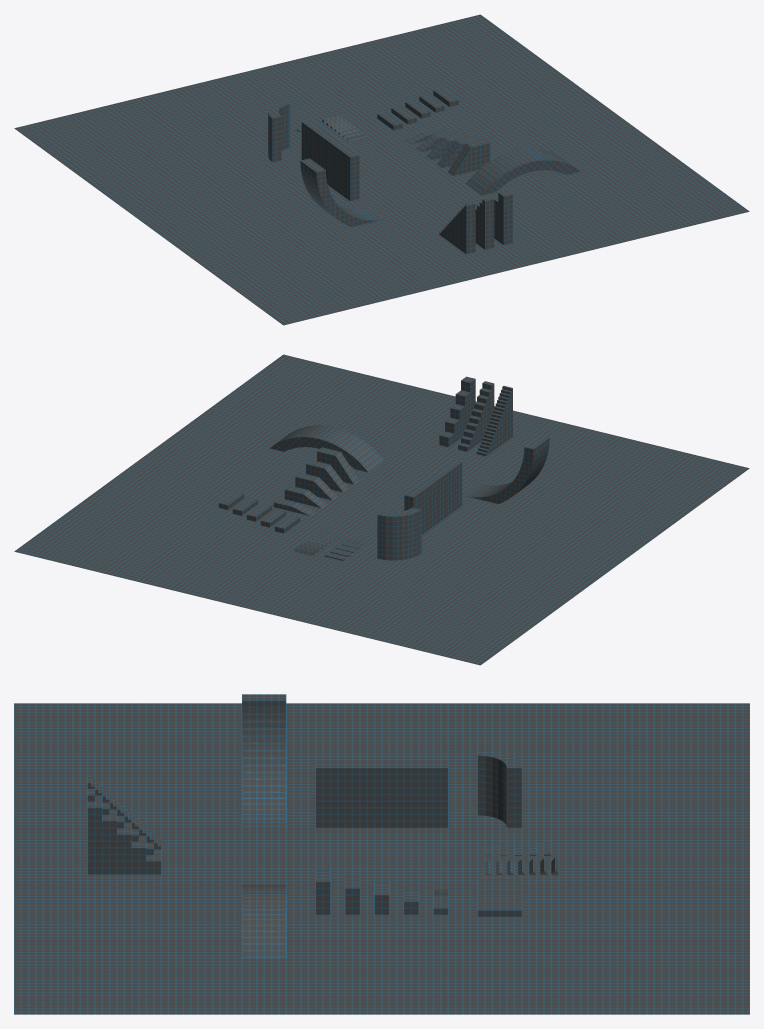
The picture shows the model from 3 angles, top to bottom: view 1: azimuth 30°, elevation 25°; view 2: azimuth 150°, elevation 25°; view 3: azimuth 270°, elevation 25°; orthographic projection. The views are drawn at different scales.
Parts seen in each view (by area): view 1: model, ramp.002, ramp.001, shelves, stairs.005, ramp, stairs.003, stairs.004, hills; view 2: model, ramp.002, ramp, ramp.001, shelves, stairs.005, stairs.003, stairs.004; view 3: model, ramp.001, stairs.003, ramp.002, ramp, shelves, stairs.005, hills, stairs.004, hills.001.
Boxes of the visible parts, x1,y1,x2,y2 form: model: (14, 14, 749, 325); ramp.002: (465, 148, 580, 195); ramp.001: (300, 158, 385, 227); shelves: (377, 88, 458, 130); stairs.005: (439, 202, 475, 254); ramp: (268, 100, 289, 162); stairs.003: (494, 190, 512, 245); stairs.004: (475, 197, 494, 249); hills: (322, 114, 366, 140); model: (14, 354, 749, 665); ramp.002: (270, 425, 384, 472); ramp: (377, 507, 421, 560); ramp.001: (464, 435, 549, 503); shelves: (218, 491, 300, 533); stairs.005: (476, 386, 512, 456); stairs.003: (439, 376, 475, 447); stairs.004: (458, 381, 494, 451); model: (14, 703, 749, 1014); ramp.001: (242, 694, 286, 827); stairs.003: (87, 801, 161, 874); ramp.002: (242, 884, 286, 957); ramp: (477, 749, 521, 827); shelves: (477, 880, 521, 916); stairs.005: (87, 776, 161, 849); hills: (485, 858, 558, 874); stairs.004: (87, 789, 161, 854); hills.001: (485, 841, 551, 855).
Size of what is drawn, in the model's own units: 100 by 15 by 100.
1 material, 1 textured.
